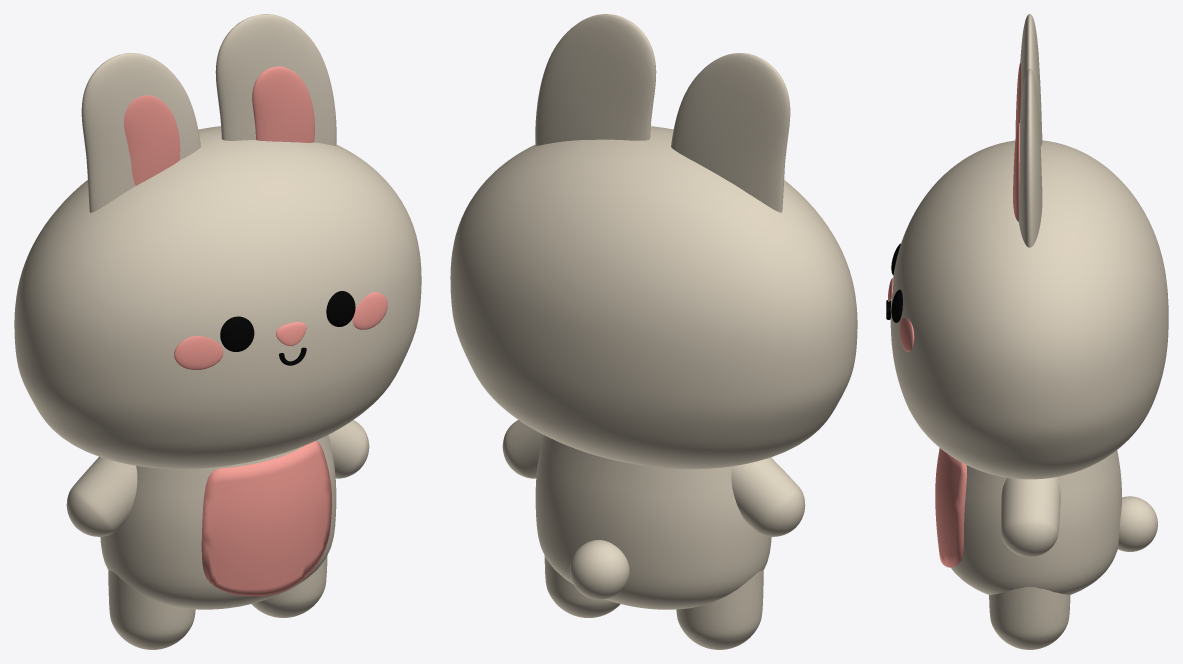
File: rabbit.glb
The picture shows the model from 3 angles, left to right: view 1: azimuth 30°, elevation 25°; view 2: azimuth 150°, elevation 25°; view 3: azimuth 270°, elevation 25°; orthographic projection. The views are drawn at different scales.
Visible parts, largest first — view 1: bdan_Material.007_0, 5cham_Material.008_0, 3enin_Material.002_0; view 2: bdan_Material.007_0; view 3: bdan_Material.007_0, 5cham_Material.008_0, 3enin_Material.002_0.
Part boxes in pixels (bbox=[...]): bdan_Material.007_0: bbox=[14, 14, 421, 649]; 5cham_Material.008_0: bbox=[124, 66, 387, 596]; 3enin_Material.002_0: bbox=[220, 291, 355, 351]; bdan_Material.007_0: bbox=[450, 14, 857, 649]; bdan_Material.007_0: bbox=[890, 14, 1168, 649]; 5cham_Material.008_0: bbox=[888, 62, 1021, 567]; 3enin_Material.002_0: bbox=[891, 243, 902, 322].
Size of the model in its own units: 4.6 by 7.03 by 3.21.
